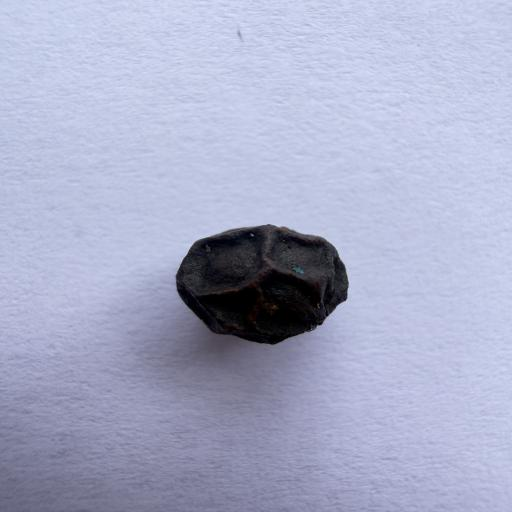Black_pepper: (84, 176, 424, 400)
